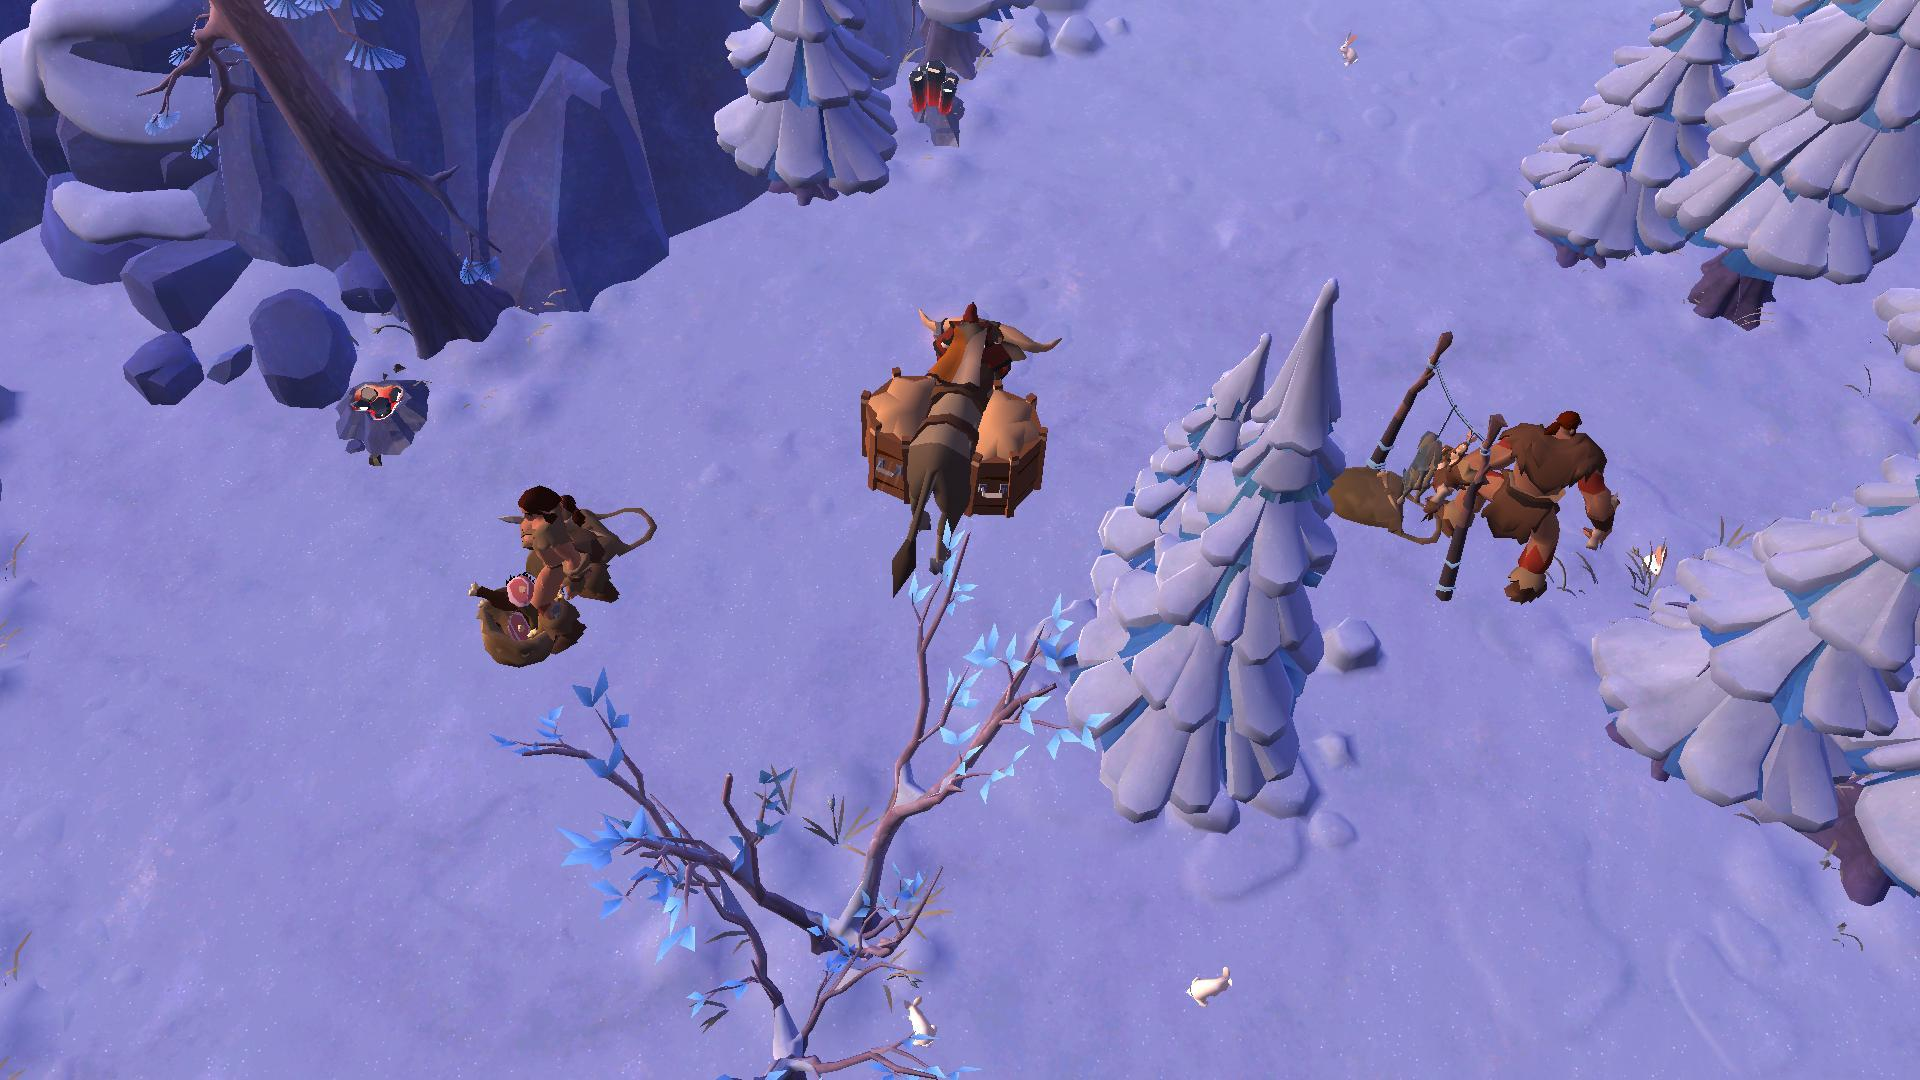enemy_factionKeeper: (1443, 400, 1615, 607), (492, 483, 624, 625)
ore_t5: (901, 61, 964, 115)
